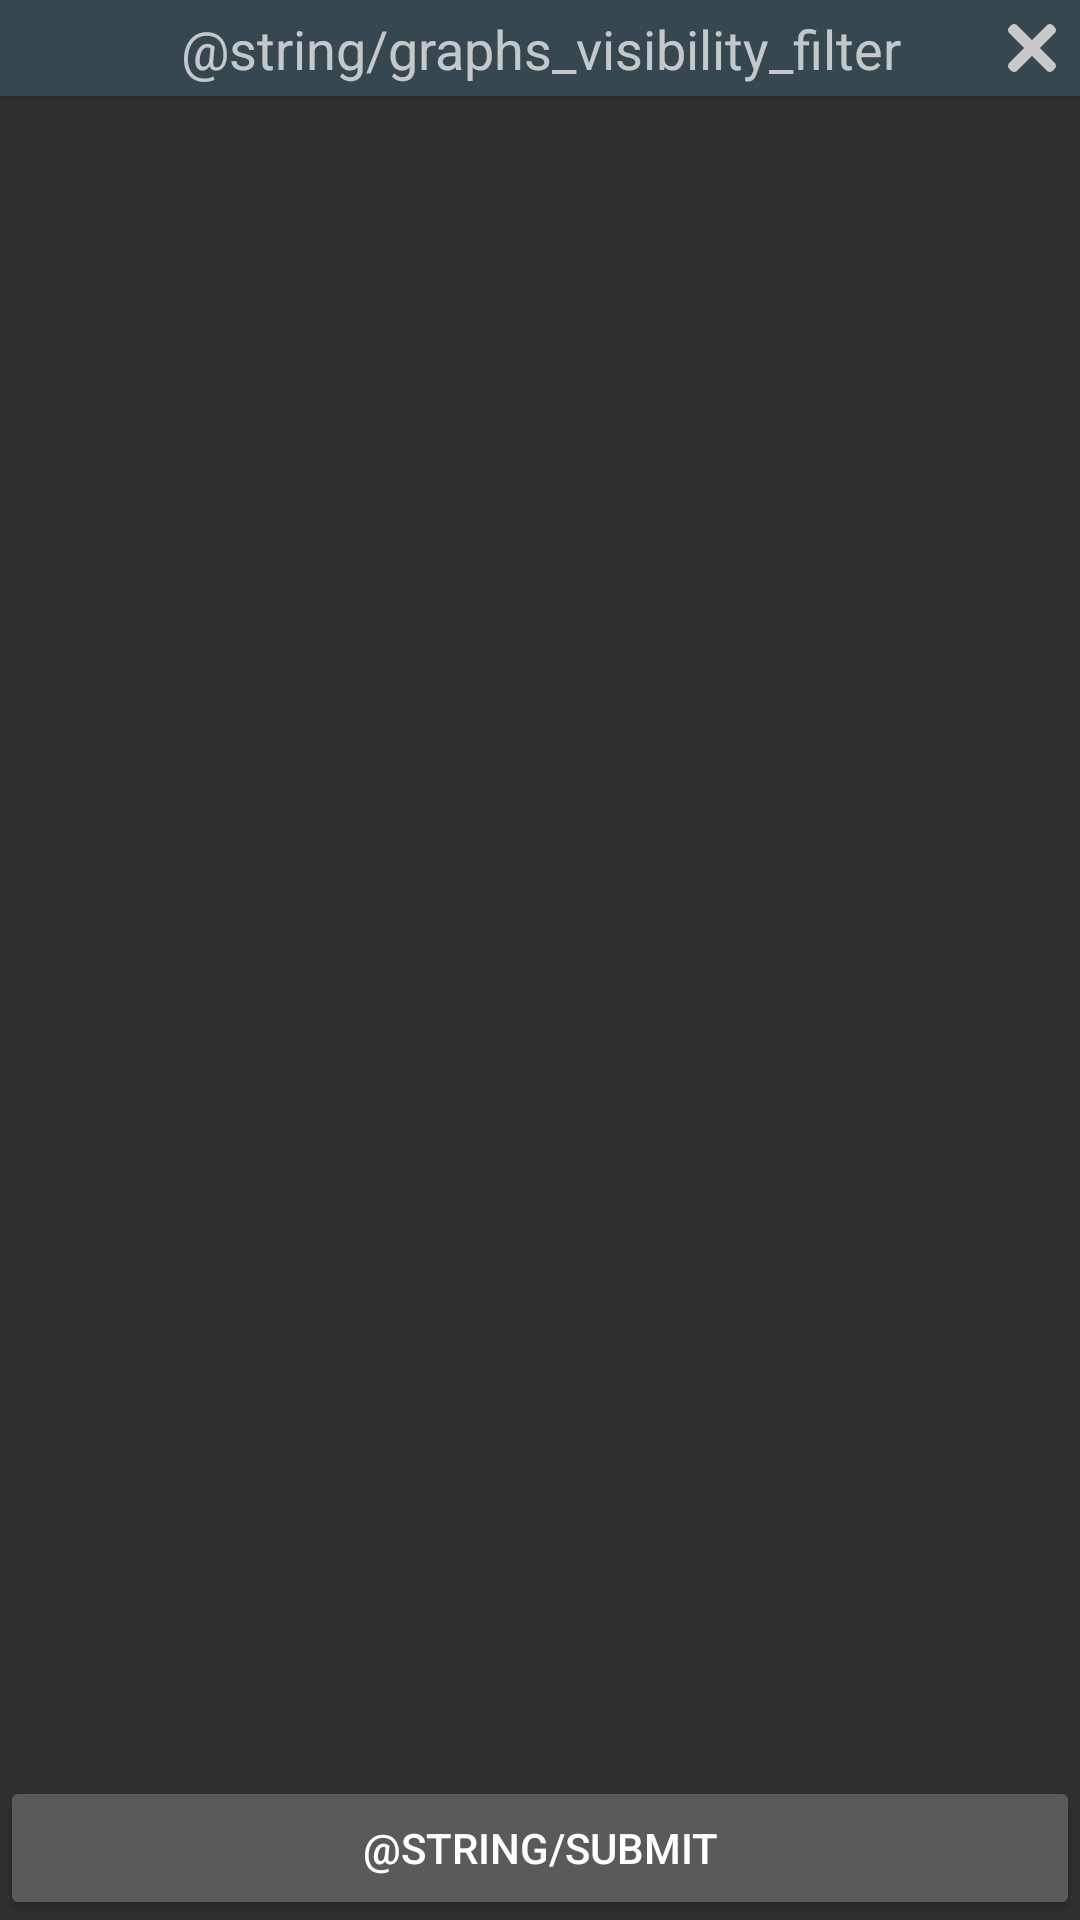

Screen size 1080px×1920px. Icon name, then its box in pixels as {"left": x1, "top": y1, "right": x2, "bottom": y2}:
close: {"left": 1008, "top": 24, "right": 1056, "bottom": 72}
